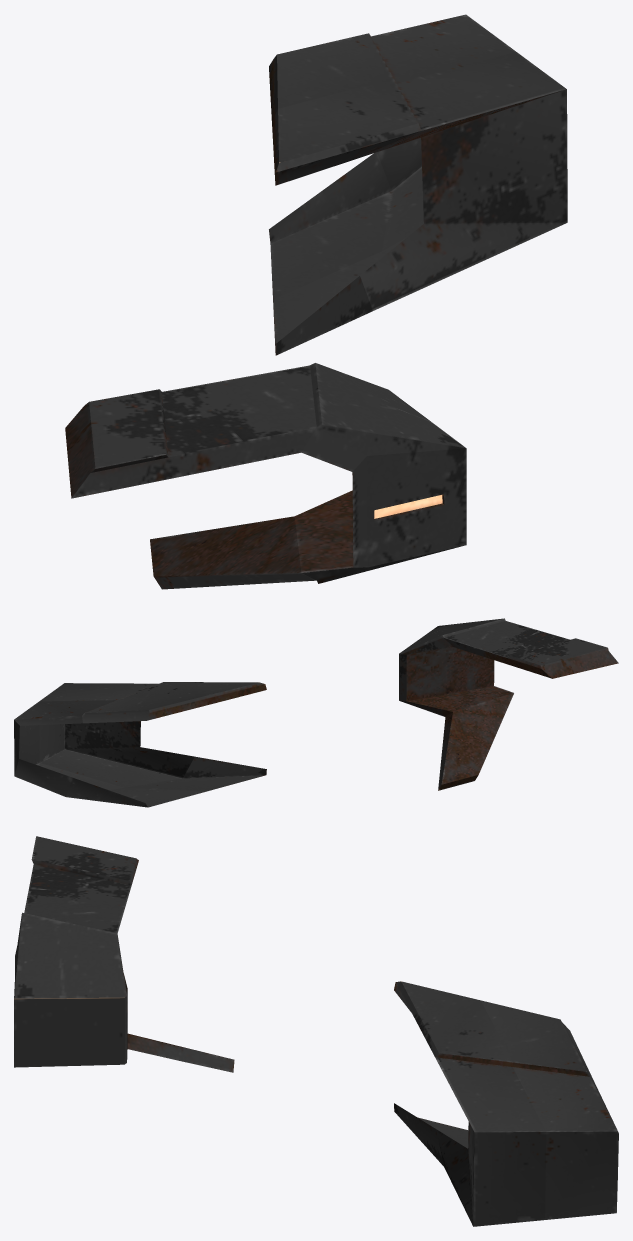
File: player_mounts_left.fbx
The picture shows the model from 3 angles, top to bottom: view 1: azimuth 30°, elevation 25°; view 2: azimuth 150°, elevation 25°; view 3: azimuth 270°, elevation 25°; orthographic projection. The views are drawn at different scales.
Parts seen in each view (by area): view 1: wing mount left; view 2: wing mount left; view 3: wing mount left.
Part boxes in pixels (<box>): wing mount left: <box>65,14,567,589</box>; wing mount left: <box>14,618,618,807</box>; wing mount left: <box>14,836,618,1226</box>.
Size of the model in its own units: 349 by 102 by 320.
